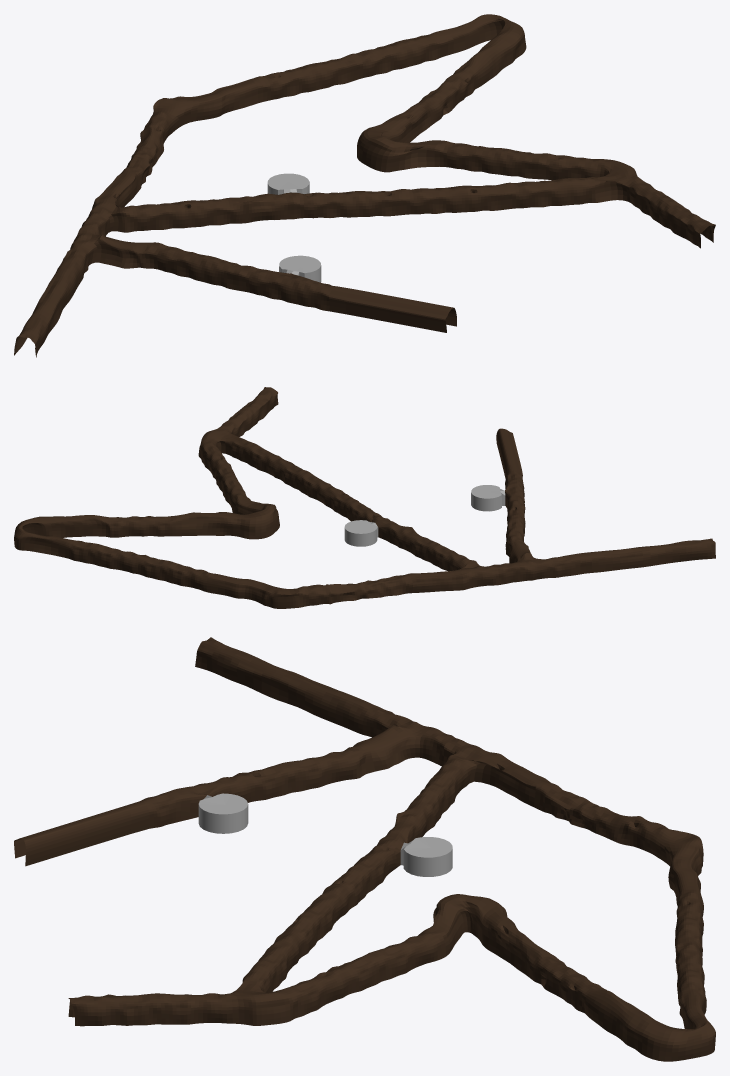
Rendered from Cave 2.fbx.
The picture shows the model from 3 angles, top to bottom: view 1: azimuth 30°, elevation 25°; view 2: azimuth 150°, elevation 25°; view 3: azimuth 270°, elevation 25°; orthographic projection. The views are drawn at different scales.
Parts seen in each view (by area): view 1: polySurface5, polySurface26, polySurface22; view 2: polySurface5, polySurface22, polySurface26; view 3: polySurface5, polySurface22, polySurface26.
Part boxes in pixels (<box>): polySurface5: <box>14,14,715,357</box>; polySurface26: <box>279,255,321,282</box>; polySurface22: <box>267,173,309,194</box>; polySurface5: <box>14,387,715,608</box>; polySurface22: <box>344,520,378,546</box>; polySurface26: <box>471,485,505,511</box>; polySurface5: <box>14,637,715,1061</box>; polySurface22: <box>400,837,452,876</box>; polySurface26: <box>198,793,248,833</box>.
Bounding box in the file's own units: 296 × 218 × 11.36.
